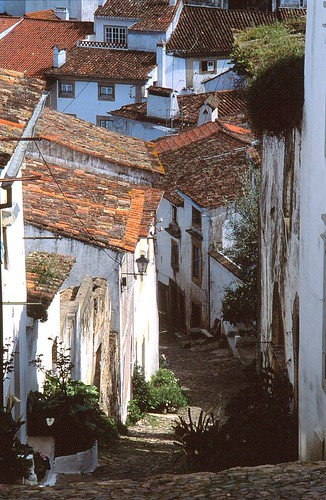building: (1, 164, 167, 468), (163, 134, 277, 351), (62, 1, 161, 111)
